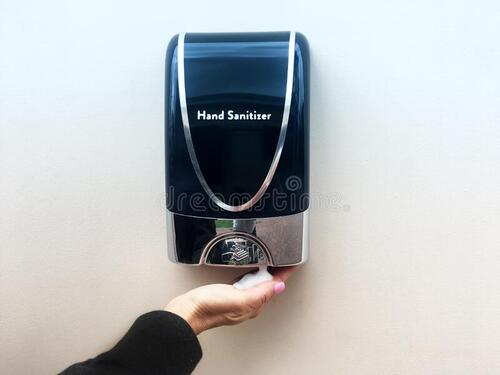sanitizer: (160, 27, 312, 266)
